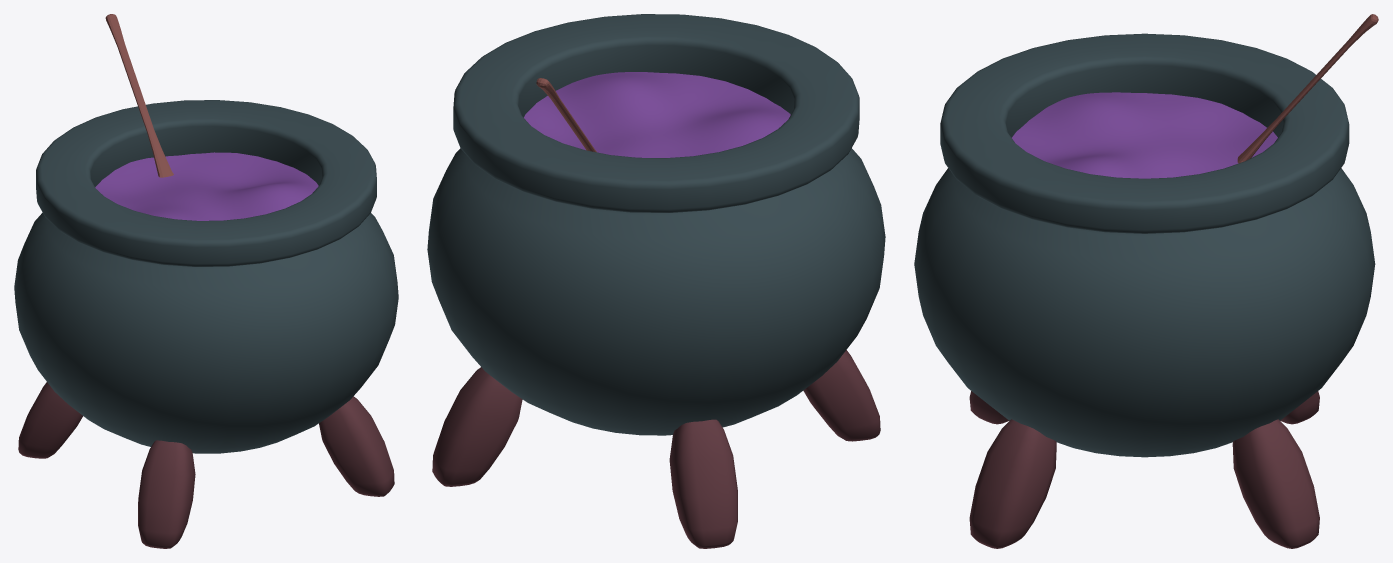
File: Caldeirao (1).fbx
The picture shows the model from 3 angles, left to right: view 1: azimuth 30°, elevation 25°; view 2: azimuth 150°, elevation 25°; view 3: azimuth 270°, elevation 25°; orthographic projection. The views are drawn at different scales.
Visible parts, largest first — view 1: Caldeirao, Liquido, Cube.013; view 2: Caldeirao, Liquido, Cube.013; view 3: Caldeirao, Liquido, Cube.013.
Part boxes in pixels (x1,y1,x2,y2): Caldeirao: (14,100,398,548); Liquido: (95,152,318,220); Cube.013: (105,14,173,177); Caldeirao: (427,14,885,548); Liquido: (524,72,790,157); Cube.013: (536,78,596,152); Caldeirao: (914,33,1375,548); Liquido: (1012,92,1277,178); Cube.013: (1237,14,1378,163).
Size of the model in its own units: 141 by 157 by 142.
